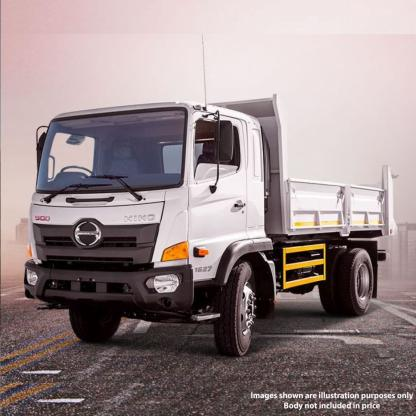dump_truck: (28, 76, 401, 357)
